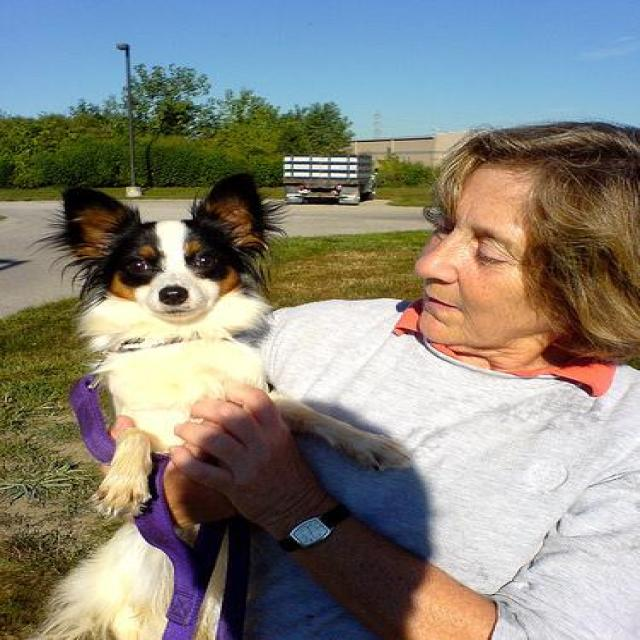papillon: (29, 177, 418, 638)
